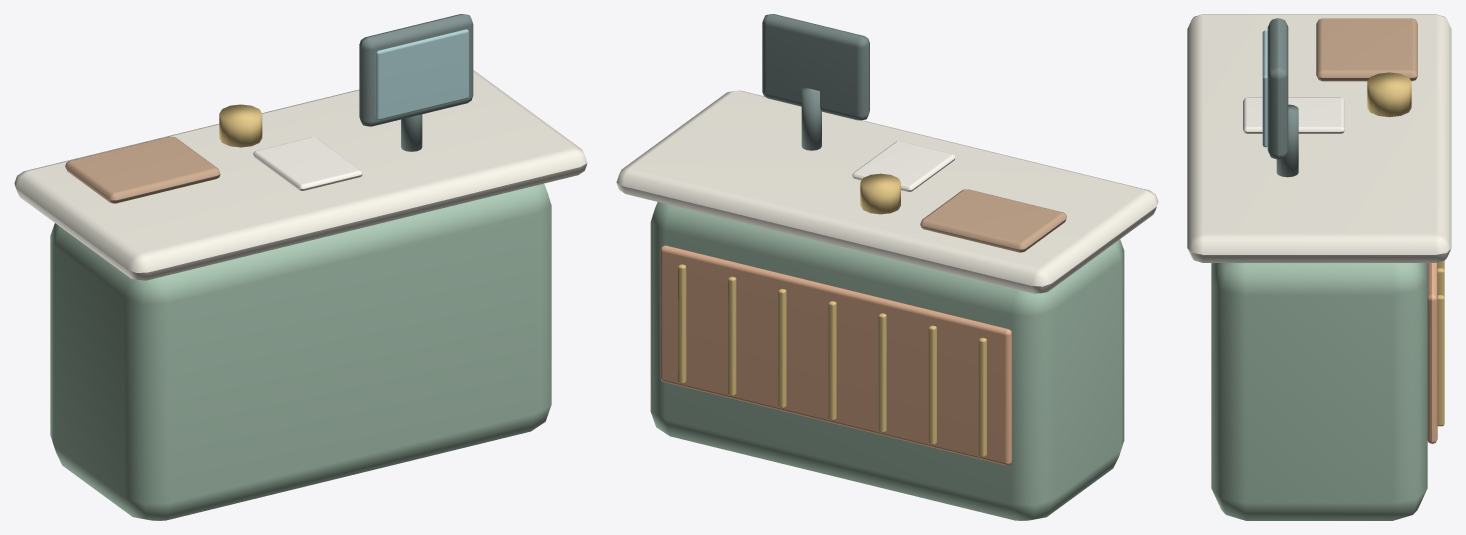
Rendered from ReceptionDesk.fbx.
3 renders of one model, left to right at view 1: azimuth 30°, elevation 25°; view 2: azimuth 150°, elevation 25°; view 3: azimuth 270°, elevation 25°, orthographic. The views are drawn at different scales.
Parts seen in each view (by area): view 1: ReceptionDesk_Sage, ReceptionDesk_Ivory, ReceptionDesk_Blue, ReceptionDesk_Wood, ReceptionDesk_Ink, ReceptionDesk_Linen, ReceptionDesk_Gold; view 2: ReceptionDesk_Sage, ReceptionDesk_Ivory, ReceptionDesk_Apricot, ReceptionDesk_Ink, ReceptionDesk_Gold, ReceptionDesk_Wood, ReceptionDesk_Linen; view 3: ReceptionDesk_Sage, ReceptionDesk_Ivory, ReceptionDesk_Wood, ReceptionDesk_Ink, ReceptionDesk_Gold, ReceptionDesk_Linen, ReceptionDesk_Apricot, ReceptionDesk_Blue.
Boxes of the visible parts, left/top/right/bottom form: ReceptionDesk_Sage: left=50, top=183, right=551, bottom=520; ReceptionDesk_Ivory: left=14, top=70, right=587, bottom=280; ReceptionDesk_Blue: left=375, top=29, right=468, bottom=119; ReceptionDesk_Wood: left=65, top=136, right=220, bottom=203; ReceptionDesk_Ink: left=359, top=14, right=473, bottom=151; ReceptionDesk_Linen: left=253, top=137, right=362, bottom=190; ReceptionDesk_Gold: left=219, top=104, right=262, bottom=147; ReceptionDesk_Sage: left=650, top=202, right=1124, bottom=520; ReceptionDesk_Ivory: left=616, top=90, right=1158, bottom=293; ReceptionDesk_Apricot: left=660, top=245, right=1012, bottom=465; ReceptionDesk_Ink: left=762, top=14, right=869, bottom=150; ReceptionDesk_Gold: left=678, top=173, right=986, bottom=457; ReceptionDesk_Wood: left=920, top=189, right=1066, bottom=252; ReceptionDesk_Linen: left=852, top=141, right=955, bottom=191; ReceptionDesk_Sage: left=1211, top=263, right=1427, bottom=520; ReceptionDesk_Ivory: left=1187, top=14, right=1451, bottom=262; ReceptionDesk_Wood: left=1316, top=18, right=1417, bottom=81; ReceptionDesk_Ink: left=1267, top=18, right=1298, bottom=177; ReceptionDesk_Gold: left=1367, top=72, right=1444, bottom=426; ReceptionDesk_Linen: left=1243, top=97, right=1344, bottom=133; ReceptionDesk_Apricot: left=1427, top=262, right=1437, bottom=443; ReceptionDesk_Blue: left=1262, top=30, right=1267, bottom=147.
Bounding box in the file's own units: 173 × 150 × 83.
